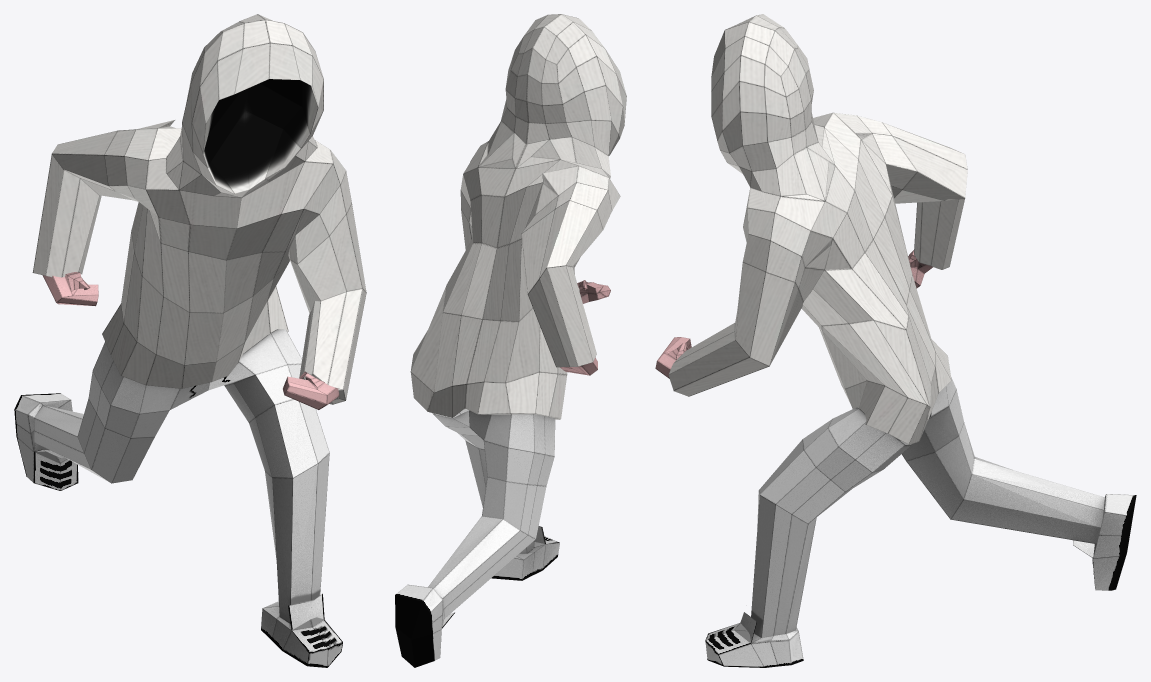
Rendered from Shadowmanv_000016.obj.
The picture shows the model from 3 angles, left to right: view 1: azimuth 30°, elevation 25°; view 2: azimuth 150°, elevation 25°; view 3: azimuth 270°, elevation 25°; orthographic projection. The views are drawn at different scales.
Parts seen in each view (by area): view 1: Cube.000; view 2: Cube.000; view 3: Cube.000.
Boxes of the visible parts, left/top/right/bottom form: Cube.000: left=14, top=14, right=366, bottom=667; Cube.000: left=395, top=14, right=626, bottom=667; Cube.000: left=655, top=14, right=1136, bottom=667.
Size of the model in its own units: 4.15 by 10.78 by 7.59.
